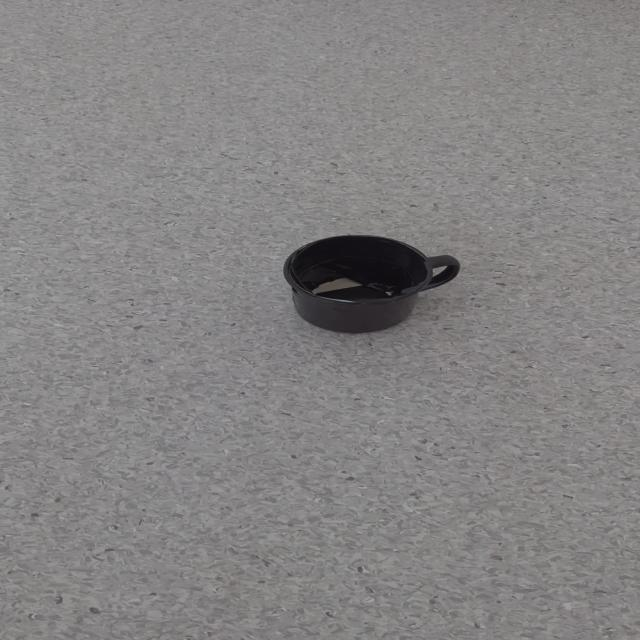mug: (282, 233, 460, 334)
